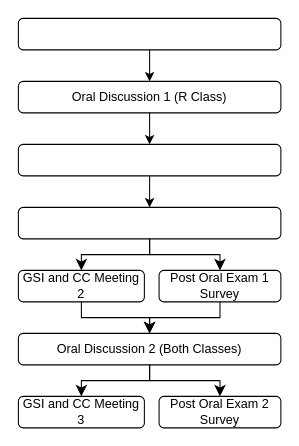
Some shapes in this 299 by 446 pixel diagram are drawn without their labels. The centre of each missing label's shape, as x and y in pixels:
Graduate student instructor (GSI) and course coordinator (CC) Meeting 1: (x=149, y=159)
Oral Discussion 1 (SAS): (x=149, y=222)
Pre-Exam Survey: (x=149, y=33)
